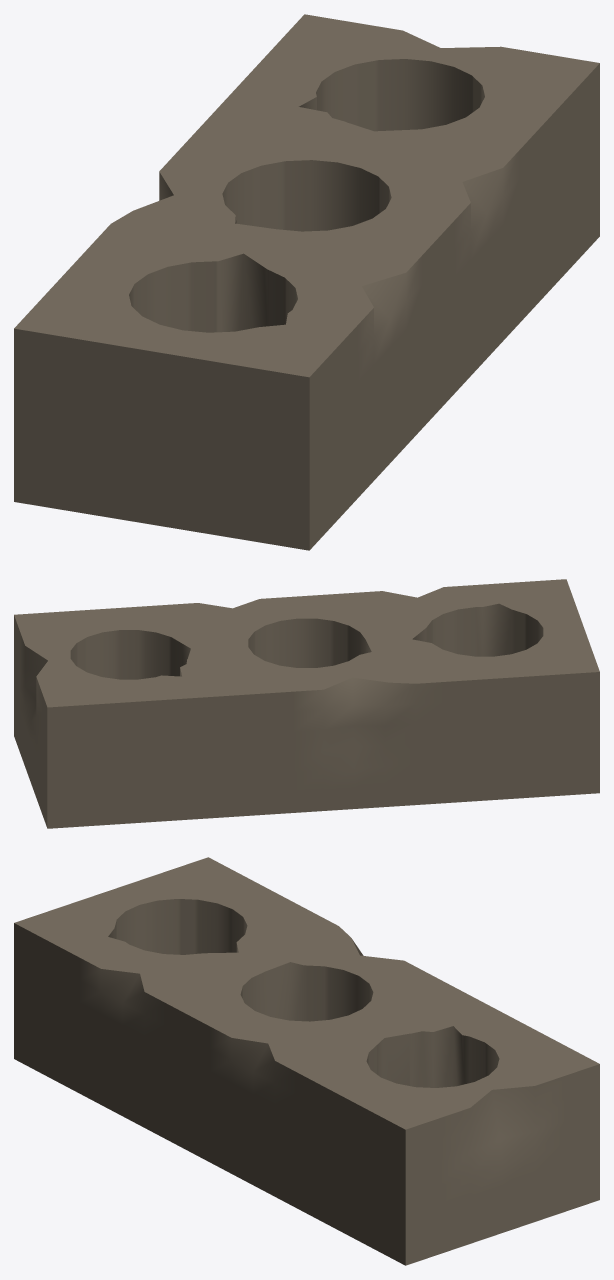
File: Brick3.fbx
The picture shows the model from 3 angles, top to bottom: view 1: azimuth 30°, elevation 25°; view 2: azimuth 150°, elevation 25°; view 3: azimuth 270°, elevation 25°; orthographic projection. The views are drawn at different scales.
Visible parts, largest first — view 1: polySurface3; view 2: polySurface3; view 3: polySurface3.
Part boxes in pixels (x1,y1,x2,y2): polySurface3: (14, 14, 599, 550); polySurface3: (14, 579, 599, 828); polySurface3: (14, 857, 599, 1265).
Size of the model in its own units: 0.7017 by 0.1633 by 0.6376.
